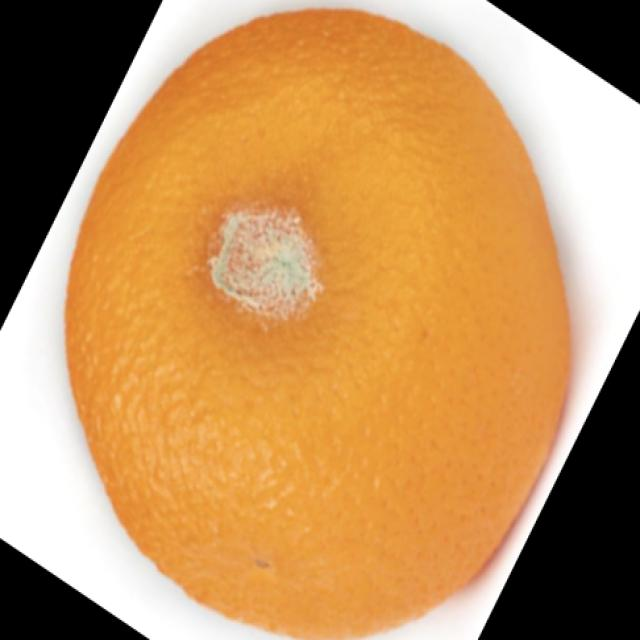sedikit_busuk: (71, 13, 561, 634)
